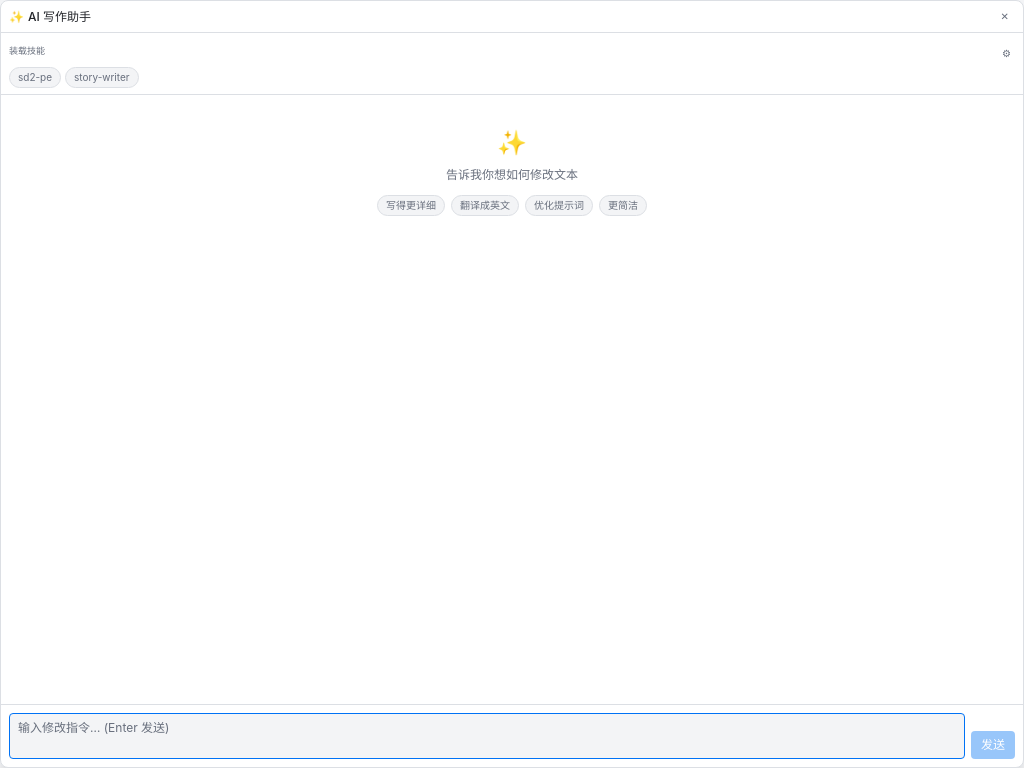
AIAssistPanel › shows error text when the AI request fails
Expected: the element with test id "skill-chips" is shown, [1, 33, 1023, 95]
Type "优化一下" into the text box with placeholder "输入修改指令… (Enter 发送)". click: (487, 736)
box: [9, 713, 965, 759]
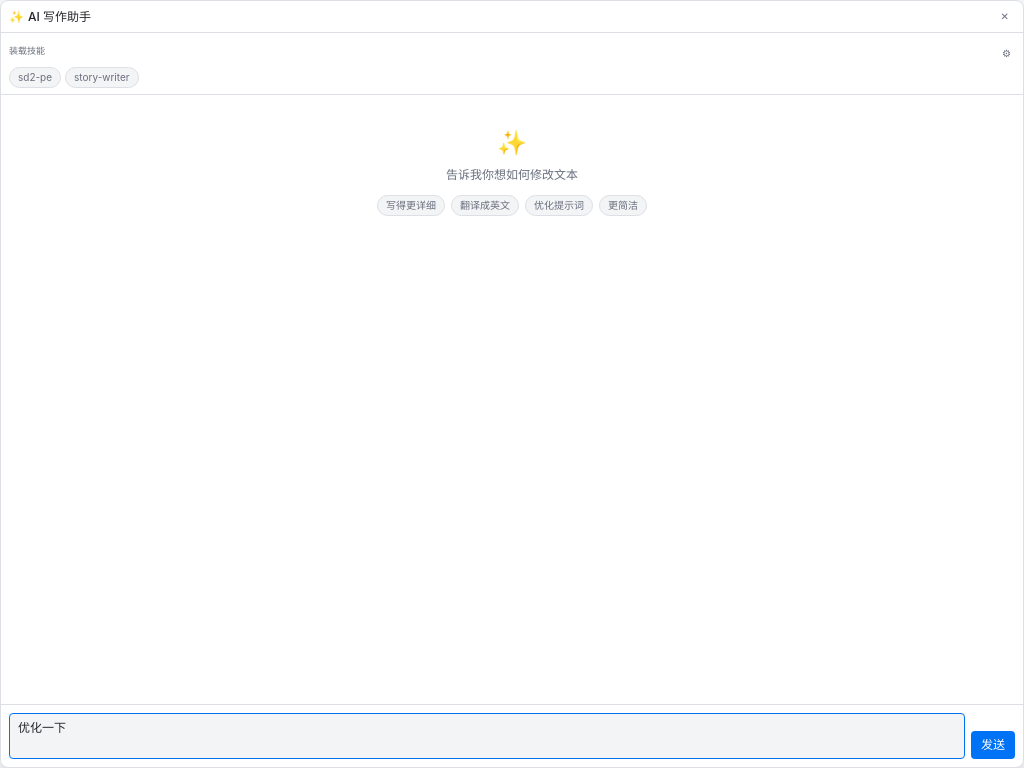
Click the button "发送". click: (993, 745)
box: [971, 731, 1015, 759]
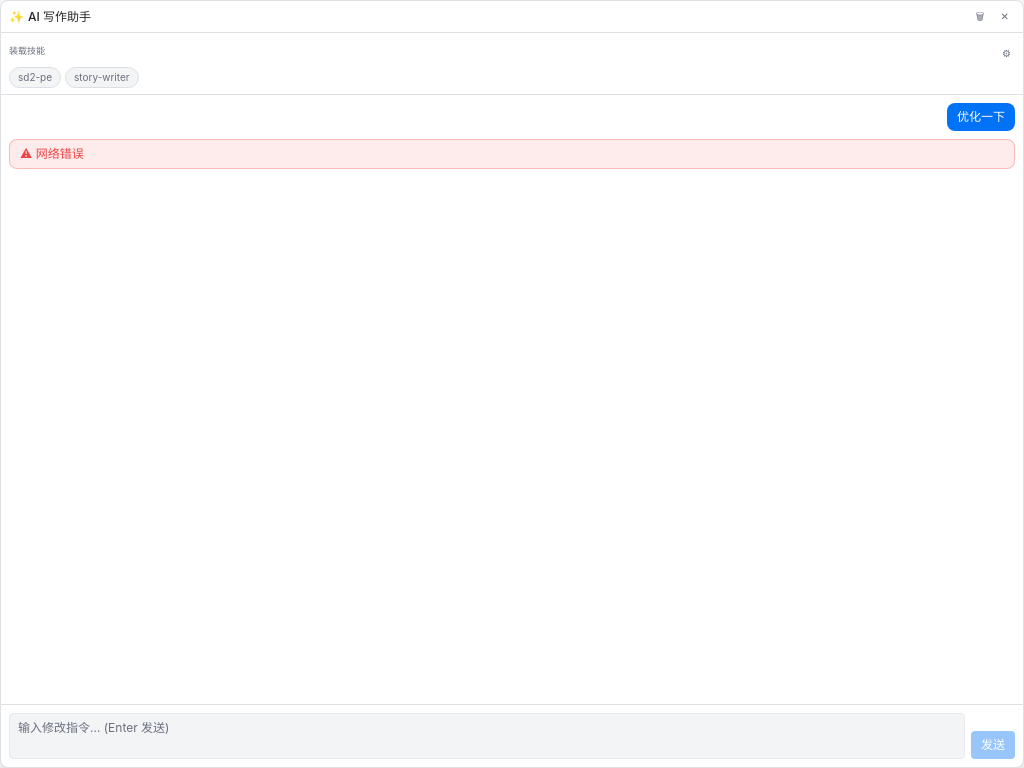
Expected: the text "⚠ 网络错误" is shown, [9, 139, 1015, 169]
